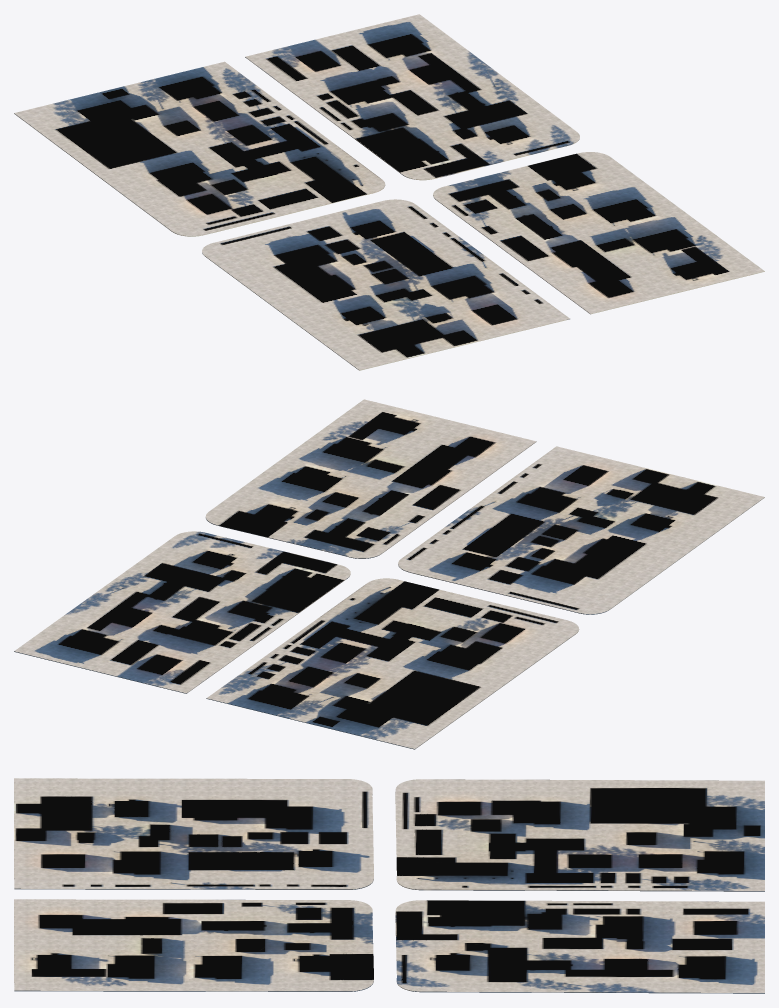
The picture shows the model from 3 angles, top to bottom: view 1: azimuth 30°, elevation 25°; view 2: azimuth 150°, elevation 25°; view 3: azimuth 270°, elevation 25°; orthographic projection. The views are drawn at different scales.
Parts seen in each view (by area): view 1: grass_shape; view 2: grass_shape; view 3: grass_shape.
Part boxes in pixels (box(x1,y1,x2,y2)): grass_shape: box(14, 14, 764, 370); grass_shape: box(14, 399, 764, 749); grass_shape: box(14, 778, 764, 993).
Size of the model in its own units: 112 by 0.1312 by 165.
1 material, 1 textured.
